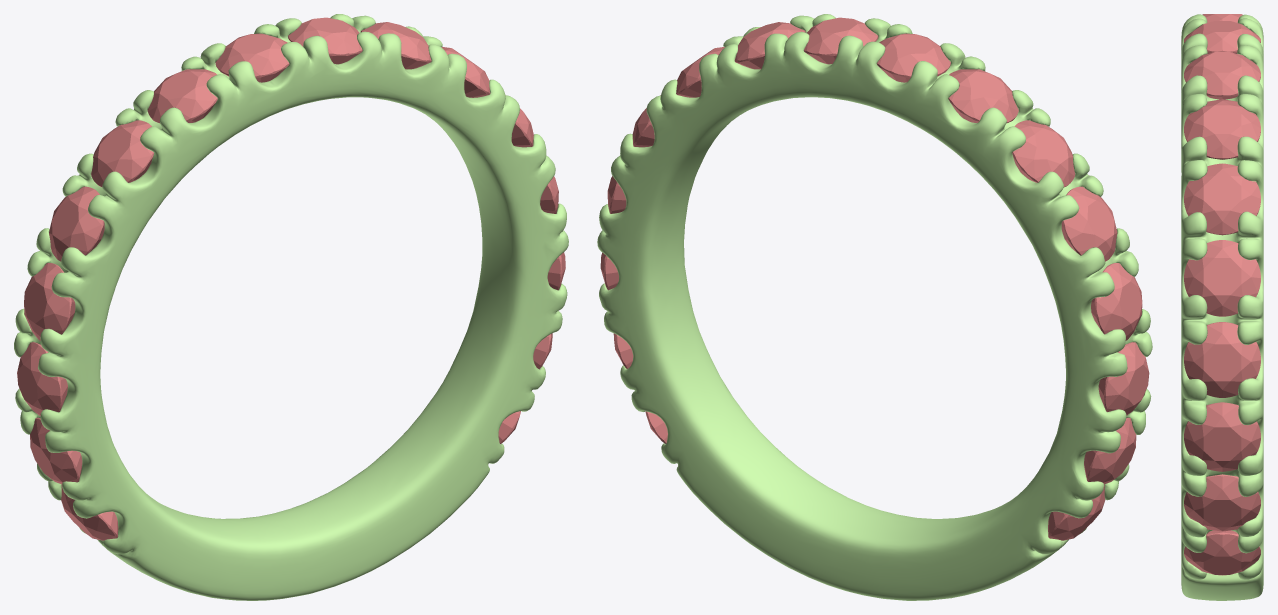
The model's file is BE2D1628LC_RENDER.glb.
3 views of the same model, side by side, from view 1: azimuth 30°, elevation 25°; view 2: azimuth 150°, elevation 25°; view 3: azimuth 270°, elevation 25° (orthographic). The views are drawn at different scales.
Parts seen in each view (by area): view 1: Metal03, Diamond_Round_Gem_BD.013, Diamond_Round_Gem_BD.012, Diamond_Round_Gem_BD.014, Diamond_Round_Gem_BD.011, Diamond_Round_Gem_BD.015, Diamond_Round_Gem_BD.010, Diamond_Round_Gem_BD.007, Diamond_Round_Gem_BD.009, Diamond_Round_Gem_BD.006, Diamond_Round_Gem_BD.008, Diamond_Round_Gem_BD.005; view 2: Metal03, Diamond_Round_Gem_BD.013, Diamond_Round_Gem_BD.012, Diamond_Round_Gem_BD.014, Diamond_Round_Gem_BD.011, Diamond_Round_Gem_BD.015, Diamond_Round_Gem_BD.010, Diamond_Round_Gem_BD.007, Diamond_Round_Gem_BD.009, Diamond_Round_Gem_BD.006, Diamond_Round_Gem_BD.008, Diamond_Round_Gem_BD.005; view 3: Metal03, Diamond_Round_Gem_BD.004, Diamond_Round_Gem_BD.003, Diamond_Round_Gem_BD.005, Diamond_Round_Gem_BD.002, Diamond_Round_Gem_BD.006, Diamond_Round_Gem_BD.001, Diamond_Round_Gem_BD.007, Diamond_Round_Gem_BD, Diamond_Round_Gem_BD.015, Diamond_Round_Gem_BD.014.
Boxes of the visible parts, x1,y1,x2,y2 form: Metal03: (14, 14, 568, 600); Diamond_Round_Gem_BD.013: (91, 120, 153, 186); Diamond_Round_Gem_BD.012: (49, 186, 104, 261); Diamond_Round_Gem_BD.014: (147, 69, 217, 123); Diamond_Round_Gem_BD.011: (24, 263, 75, 340); Diamond_Round_Gem_BD.015: (215, 33, 289, 82); Diamond_Round_Gem_BD.010: (17, 342, 67, 416); Diamond_Round_Gem_BD.007: (288, 17, 362, 64); Diamond_Round_Gem_BD.009: (30, 417, 82, 484); Diamond_Round_Gem_BD.006: (361, 22, 431, 69); Diamond_Round_Gem_BD.008: (61, 485, 118, 540); Diamond_Round_Gem_BD.005: (441, 47, 490, 97); Metal03: (597, 14, 1152, 600); Diamond_Round_Gem_BD.013: (1012, 120, 1075, 187); Diamond_Round_Gem_BD.012: (1061, 186, 1117, 261); Diamond_Round_Gem_BD.014: (948, 69, 1018, 123); Diamond_Round_Gem_BD.011: (1091, 263, 1142, 340); Diamond_Round_Gem_BD.015: (877, 33, 950, 82); Diamond_Round_Gem_BD.010: (1098, 342, 1149, 415); Diamond_Round_Gem_BD.007: (804, 17, 878, 64); Diamond_Round_Gem_BD.009: (1084, 417, 1136, 484); Diamond_Round_Gem_BD.006: (734, 22, 805, 69); Diamond_Round_Gem_BD.008: (1048, 484, 1105, 540); Diamond_Round_Gem_BD.005: (676, 47, 724, 97); Metal03: (1181, 14, 1263, 600); Diamond_Round_Gem_BD.004: (1184, 240, 1260, 316); Diamond_Round_Gem_BD.003: (1184, 322, 1260, 397); Diamond_Round_Gem_BD.005: (1184, 163, 1260, 235); Diamond_Round_Gem_BD.002: (1184, 402, 1260, 471); Diamond_Round_Gem_BD.006: (1184, 99, 1260, 159); Diamond_Round_Gem_BD.001: (1184, 474, 1260, 531); Diamond_Round_Gem_BD.007: (1184, 50, 1260, 99); Diamond_Round_Gem_BD: (1184, 530, 1260, 575); Diamond_Round_Gem_BD.015: (1184, 21, 1260, 53); Diamond_Round_Gem_BD.014: (1202, 14, 1242, 22).
Size of the model in its own units: 21.39 by 21.36 by 3.
